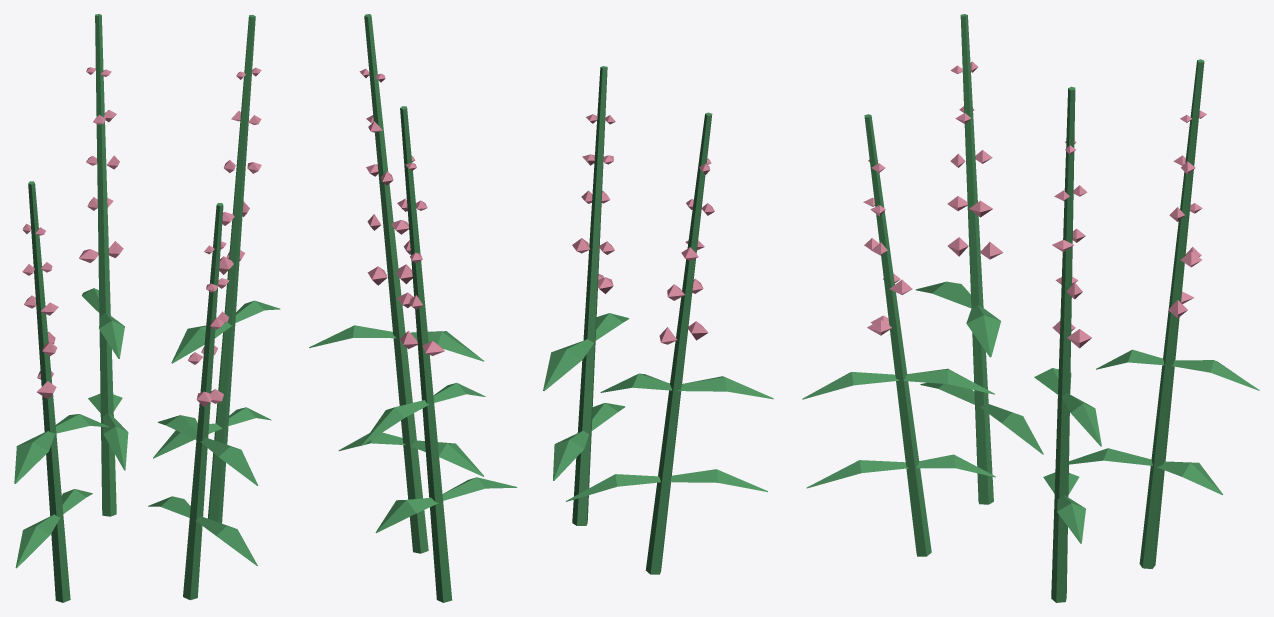
Rendered from flowers_tall_b.glb.
The picture shows the model from 3 angles, left to right: view 1: azimuth 30°, elevation 25°; view 2: azimuth 150°, elevation 25°; view 3: azimuth 270°, elevation 25°; orthographic projection. The views are drawn at different scales.
Visible parts, largest first — view 1: FlowersTallB; view 2: FlowersTallB; view 3: FlowersTallB.
Boxes of the visible parts, left/top/right/bottom form: FlowersTallB: left=14, top=14, right=280, bottom=602; FlowersTallB: left=309, top=14, right=773, bottom=602; FlowersTallB: left=802, top=14, right=1259, bottom=602.
Bounding box in the file's own units: 0.636 × 0.8607 × 0.6674.
